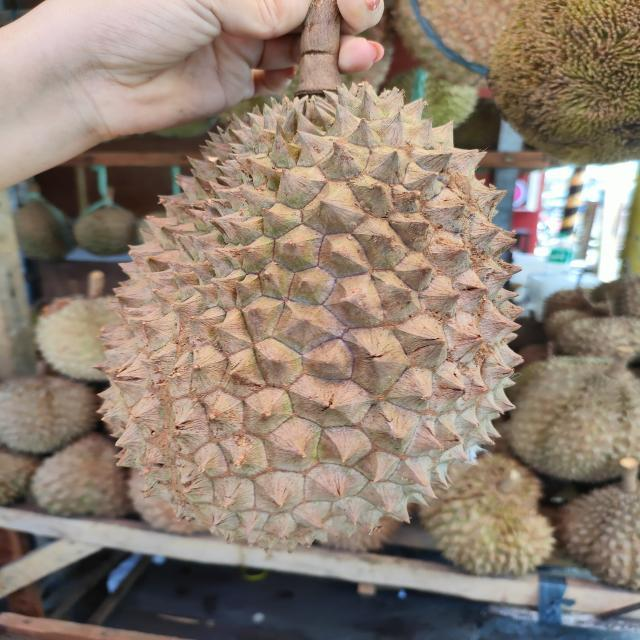mature: (92, 71, 526, 558)
